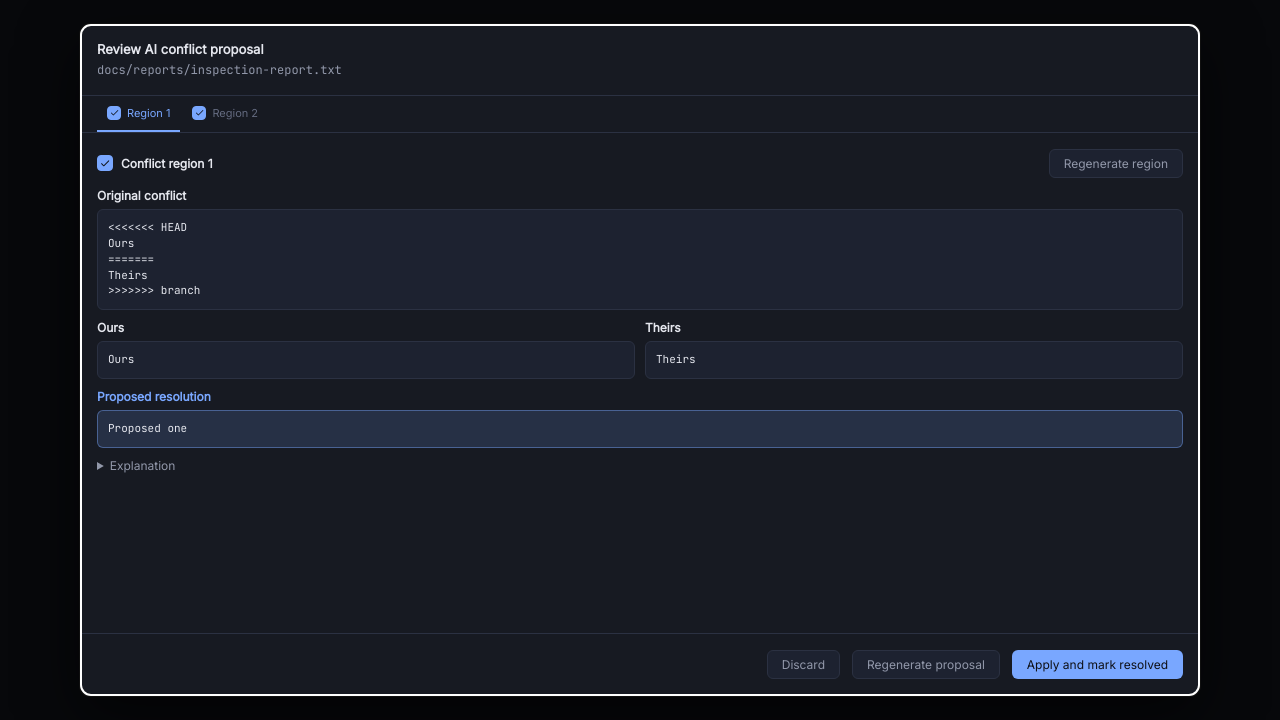
it: AiConflictProposalDialog › uses tabs to switch between explicit region comparisons
expect the element named "Conflict regions" is shown: met, box [81,96,1199,133]
expect the text "Ancestor" is not shown: met
Click the tab with aria-label "Region 2, selected": (225, 114) [182,96,268,132]
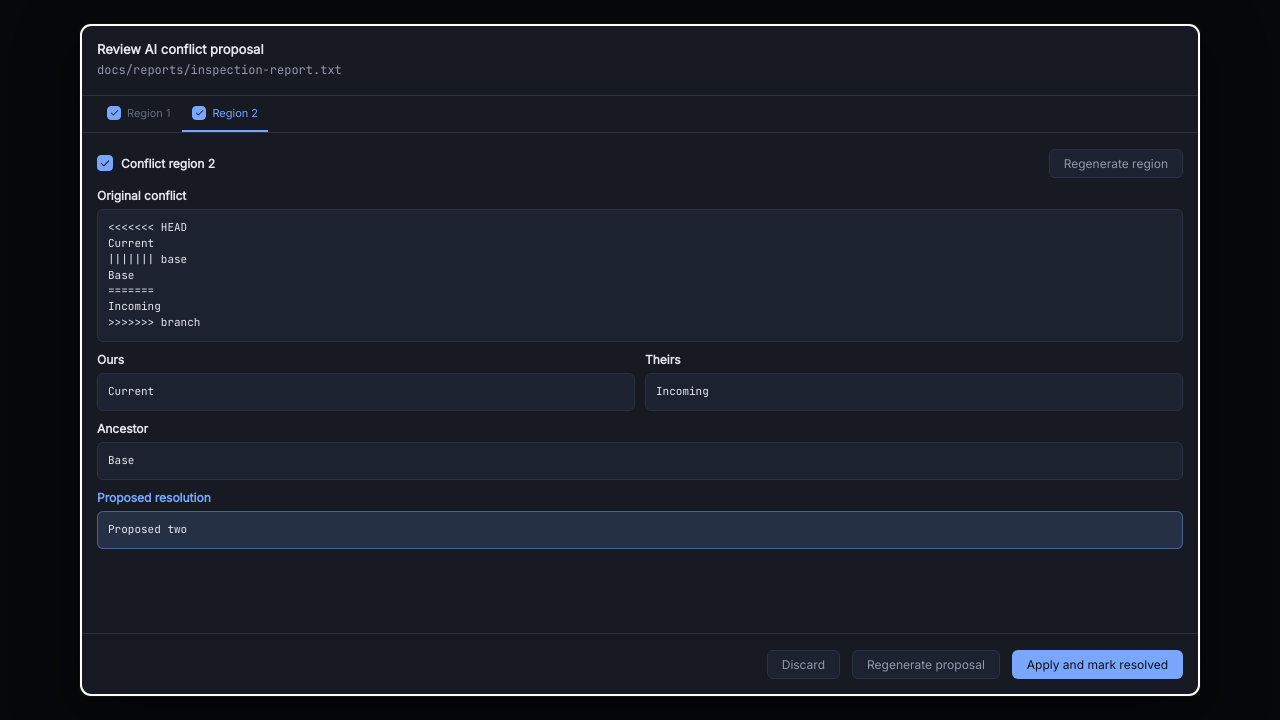
expect the text "Proposed two" is shown: met, box [97,511,1183,549]
expect the text "Proposed one" is gone: met
